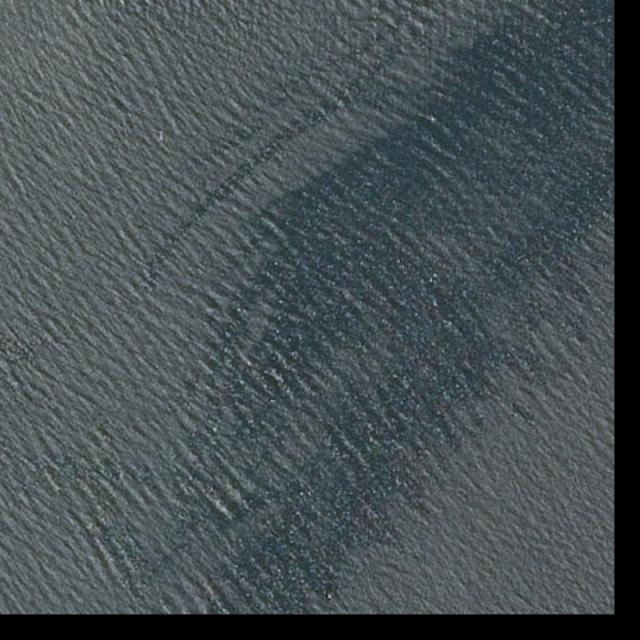ship: (157, 130, 164, 145)
